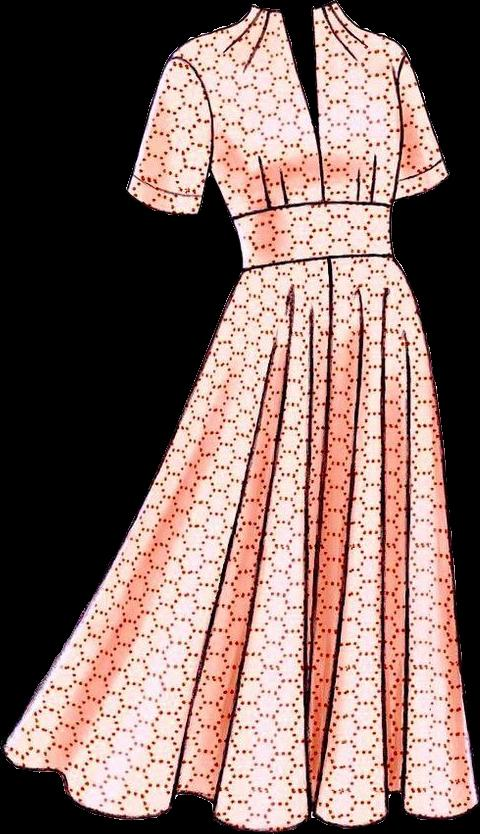Bodice: (172, 0, 408, 271)
Hemline: (0, 746, 479, 833)
Neckline: (250, 0, 340, 148), (231, 195, 394, 222)
Skirt: (3, 258, 477, 831)
Sleeve: (128, 52, 210, 214), (398, 60, 449, 199)
Sleeveline: (171, 49, 219, 174), (398, 53, 411, 163)
Waistline: (242, 248, 401, 276)
